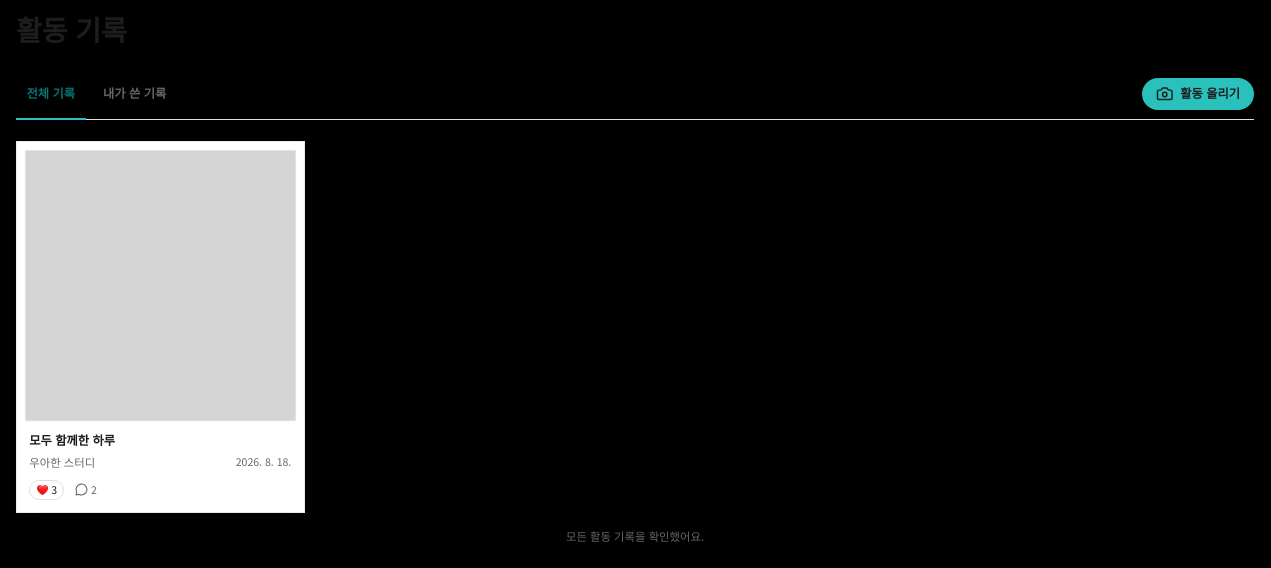
Test: separates feed cache by viewer and closes open management actions after logout
Right-click the button named "활동 사진" at (160, 327), box [16,141,304,513]
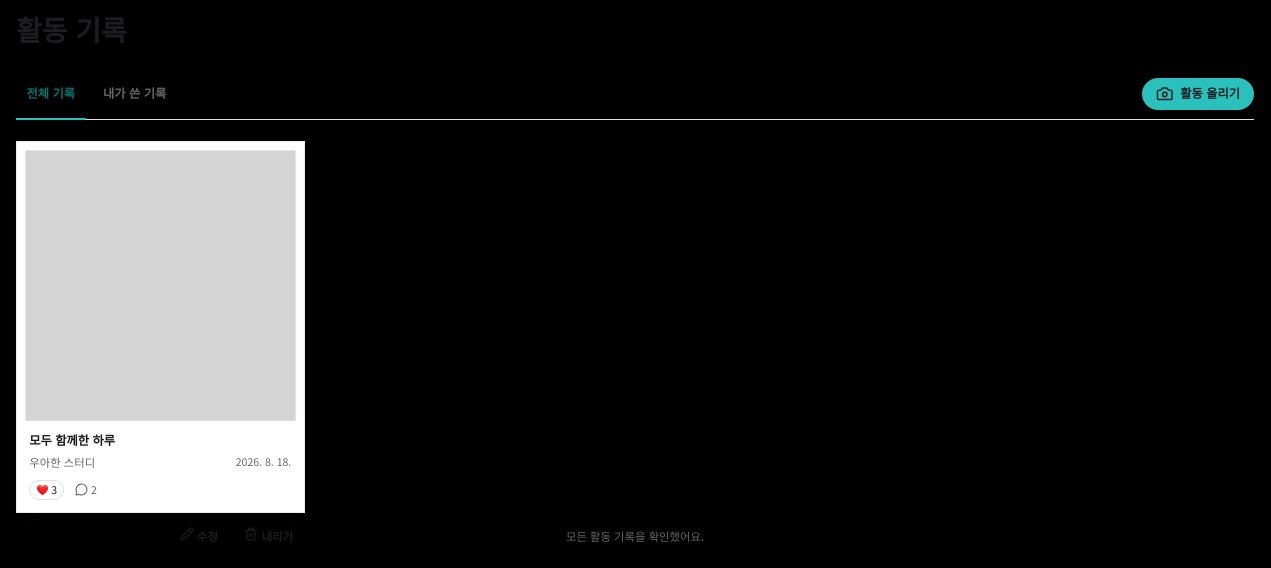
Check: the element named "우아한 스터디 기록 관리" is shown, box [168,520,304,552]
